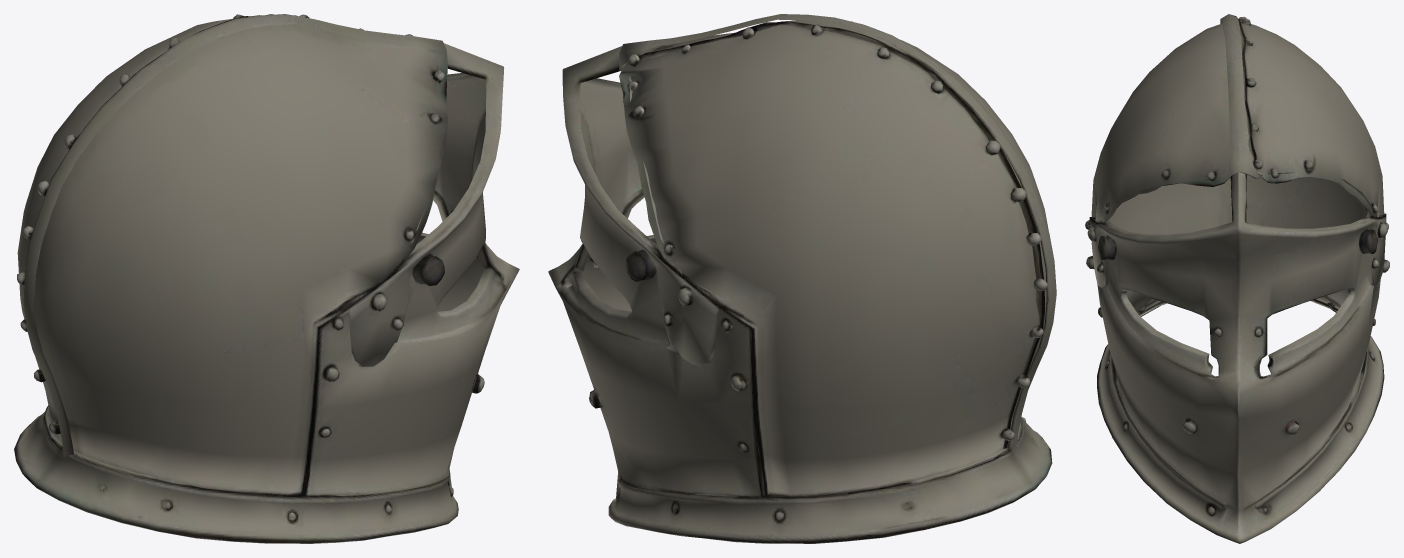
The model's file is full_helm.glb.
The picture shows the model from 3 angles, left to right: view 1: azimuth 30°, elevation 25°; view 2: azimuth 150°, elevation 25°; view 3: azimuth 270°, elevation 25°; orthographic projection. The views are drawn at different scales.
Parts seen in each view (by area): view 1: tripo_node_af3596da-f39c-445c-85cb-942779934b46; view 2: tripo_node_af3596da-f39c-445c-85cb-942779934b46; view 3: tripo_node_af3596da-f39c-445c-85cb-942779934b46.
Boxes of the visible parts, x1,y1,x2,y2 form: tripo_node_af3596da-f39c-445c-85cb-942779934b46: (14,14,519,543); tripo_node_af3596da-f39c-445c-85cb-942779934b46: (548,14,1056,543); tripo_node_af3596da-f39c-445c-85cb-942779934b46: (1085,14,1389,543).
Size of the model in its own units: 0.9707 by 0.998 by 0.6465.
1 material, 1 textured.
